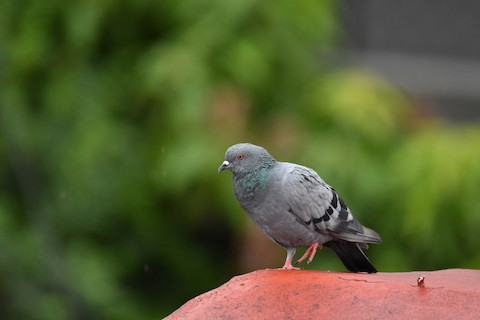pigeon: (214, 142, 386, 282)
